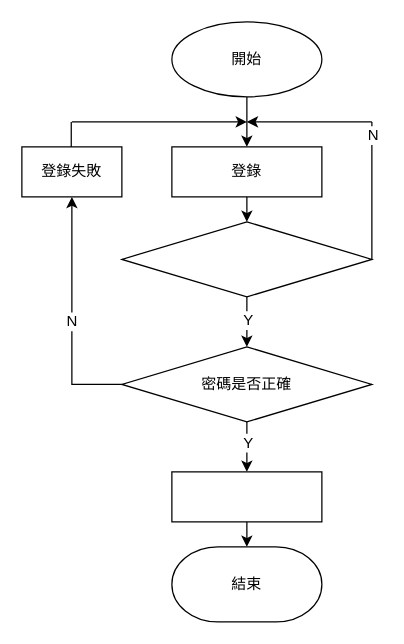
This 404x644 diagram has some shape labels left out. The box of each missing label's shape, as (x1, y1, x2, y2) in pixels:
帳號是否存在: (121, 221, 372, 297)
登錄成功: (171, 471, 322, 522)
